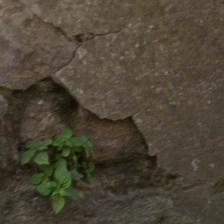Crack: (24, 59, 146, 113), (111, 47, 209, 98)
